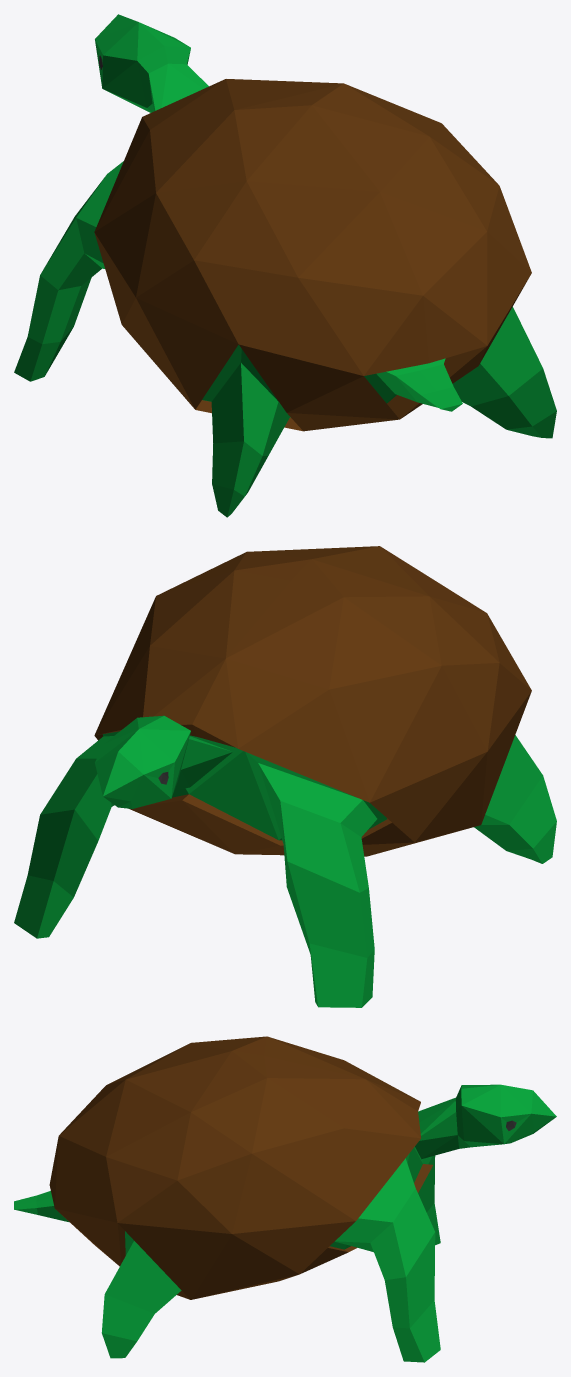
File: Shell.fbx
3 renders of one model, top to bottom at view 1: azimuth 30°, elevation 25°; view 2: azimuth 150°, elevation 25°; view 3: azimuth 270°, elevation 25°, orthographic. The views are drawn at different scales.
Parts seen in each view (by area): view 1: Icosphere; view 2: Icosphere; view 3: Icosphere.
Part boxes in pixels (<box>): Icosphere: <box>14,14,556,517</box>; Icosphere: <box>14,546,556,1007</box>; Icosphere: <box>14,1036,556,1362</box>.
Size of the model in its own units: 115 by 98.56 by 198.
